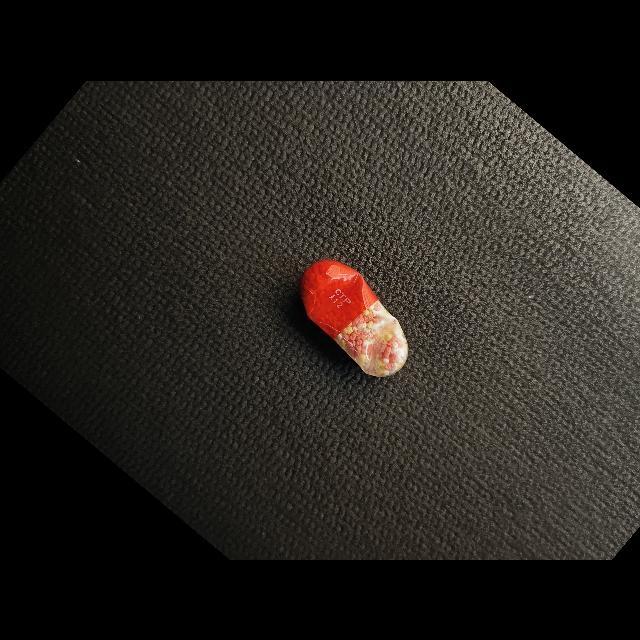Defective Capsule: (301, 259, 408, 377)
